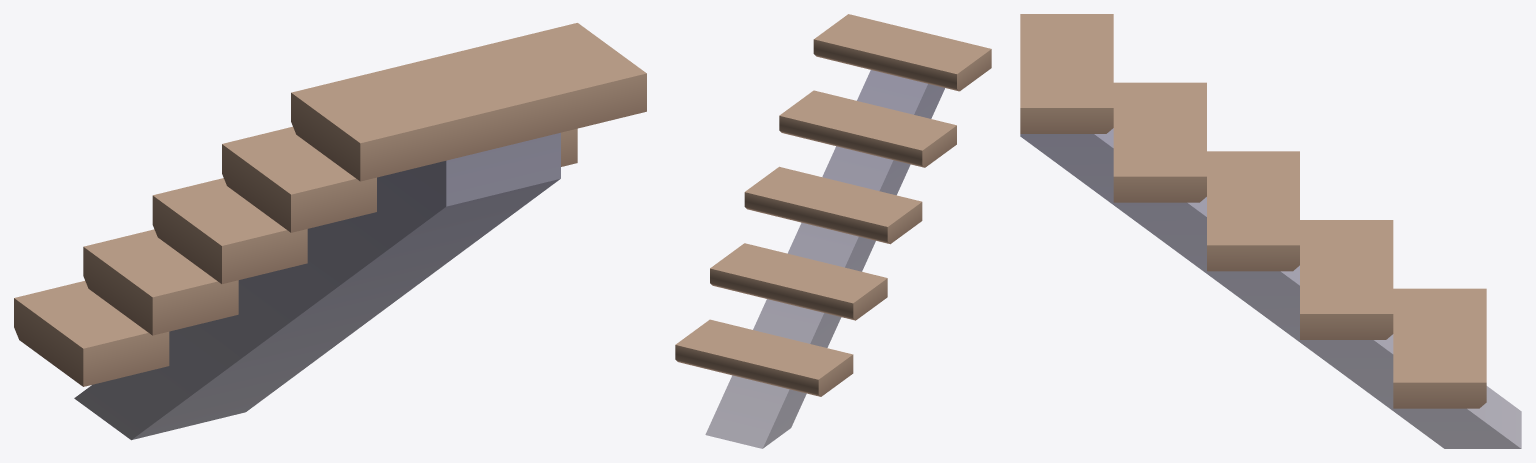
File: stairs-floating-support-half.glb
3 renders of one model, left to right at view 1: azimuth 30°, elevation 25°; view 2: azimuth 150°, elevation 25°; view 3: azimuth 270°, elevation 25°, orthographic. The views are drawn at different scales.
Parts seen in each view (by area): view 1: stairs-floating-support-half; view 2: stairs-floating-support-half; view 3: stairs-floating-support-half.
Boxes of the visible parts, x1,y1,x2,y2 form: stairs-floating-support-half: (14, 23, 646, 440); stairs-floating-support-half: (675, 14, 991, 448); stairs-floating-support-half: (1020, 14, 1521, 448).
Bounding box in the file's own units: 0.6514 × 1.19 × 1.47.
